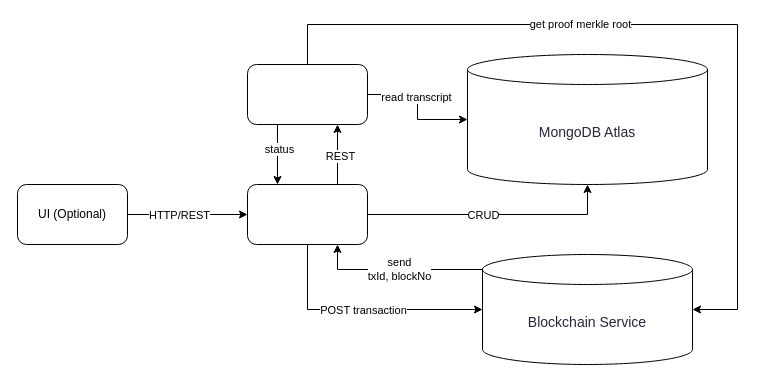
This 763x382 diagram has some shape labels left out. The shapes that lost their labels are listed below. From the top down, each one's box as (x1, y1, x2, y2) in pixels, then its label:
(246, 64, 368, 124): Verifier Endpoint
(246, 184, 368, 244): Flask API
